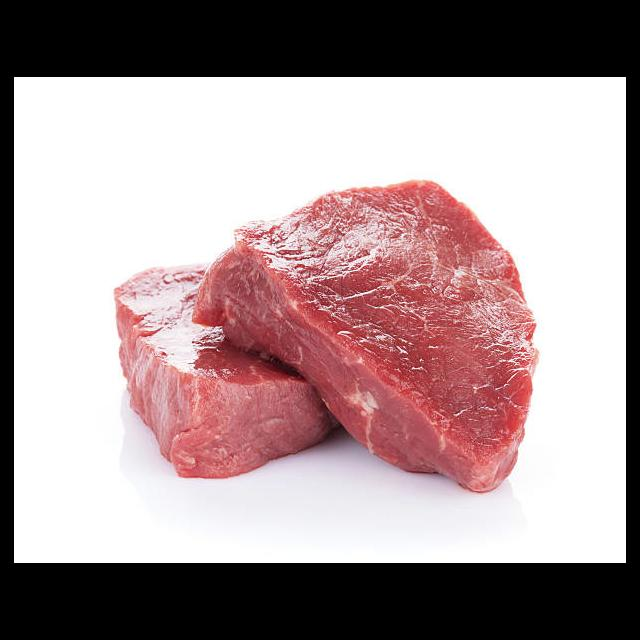beef: (194, 178, 539, 492), (96, 249, 334, 487)
